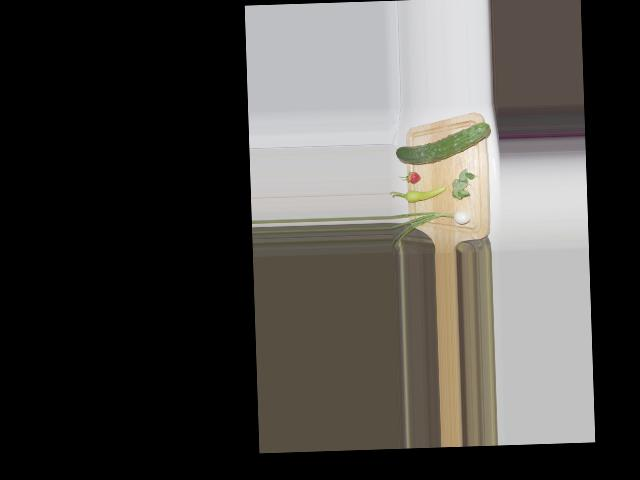cucumber: (395, 122, 491, 164)
